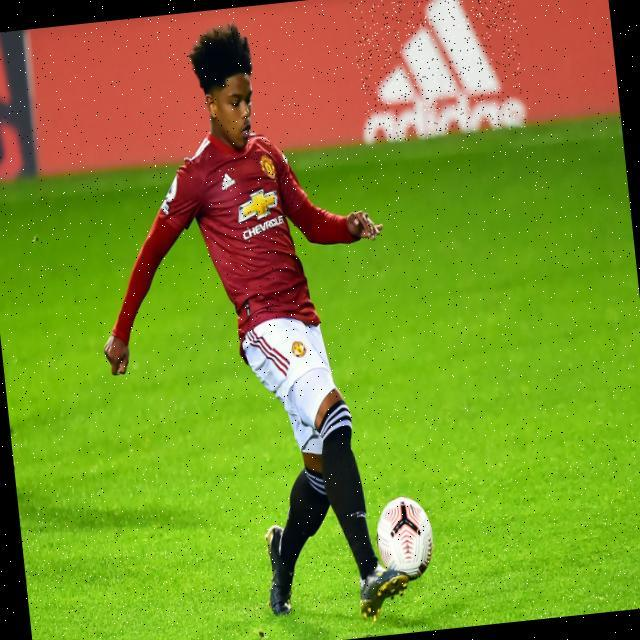Adidas: (349, 0, 527, 144), (215, 164, 238, 194)
Chevrolet: (234, 180, 290, 243)
